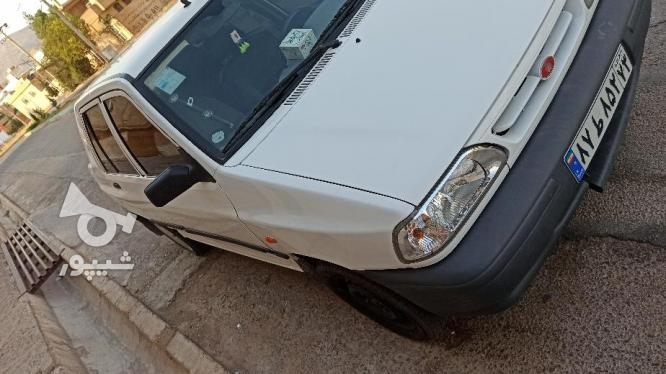car: (559, 38, 637, 181)
